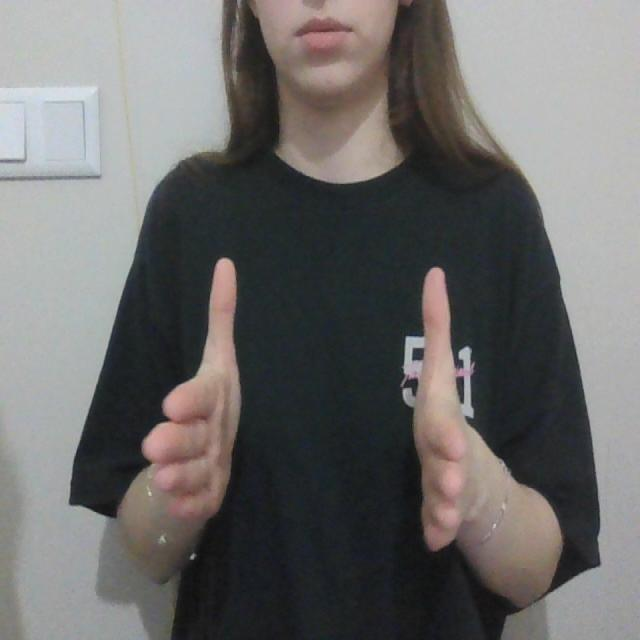Nasil: (138, 232, 493, 585)
